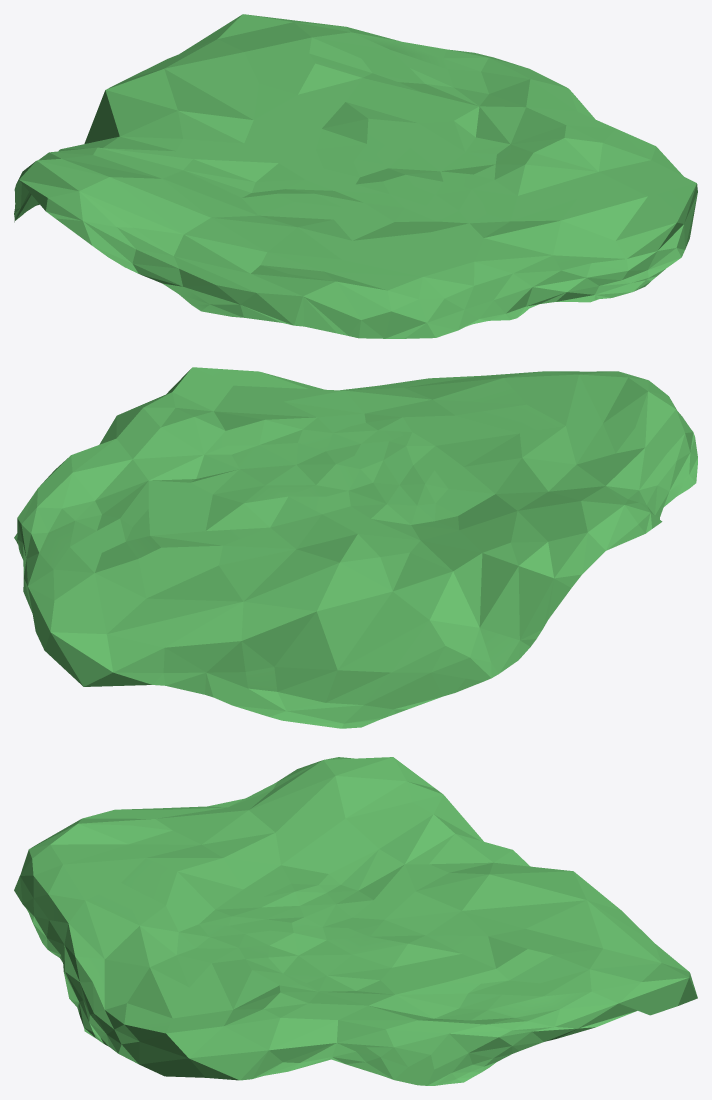
File: ground.069.fbx
The picture shows the model from 3 angles, top to bottom: view 1: azimuth 30°, elevation 25°; view 2: azimuth 150°, elevation 25°; view 3: azimuth 270°, elevation 25°; orthographic projection. The views are drawn at different scales.
Visible parts, largest first — view 1: ground_069; view 2: ground_069; view 3: ground_069.
Part boxes in pixels (bbox=[...]): ground_069: bbox=[14, 14, 697, 338]; ground_069: bbox=[14, 367, 697, 728]; ground_069: bbox=[14, 757, 697, 1085].
Size of the model in its own units: 12637 by 3026 by 14655.
